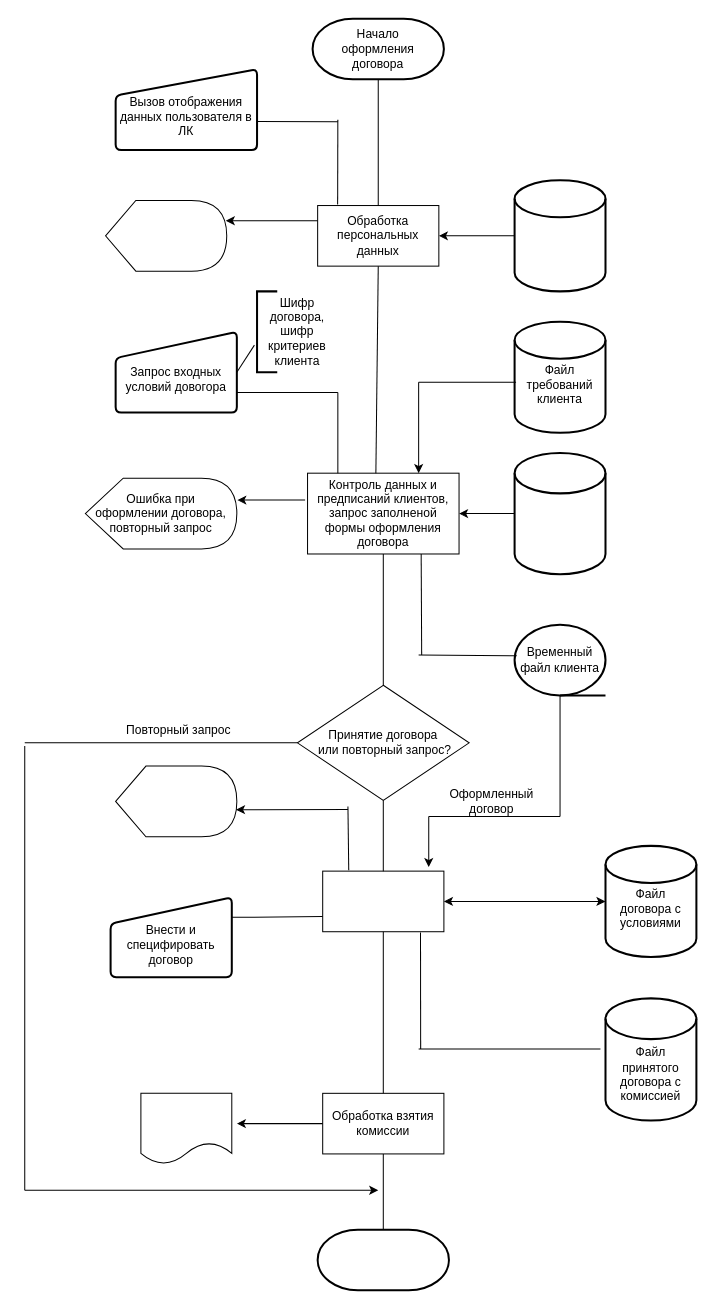
Some shapes in this 715 by 1308 pixel diagram are drawn without their labels. Each missing label, with the centre of its shape:
"Конец работы по обработке договора" goes at [382,1259].
"Обработка внесения договора в БД" goes at [383,901].
"Отображение страницы оформления" goes at [166,235].
"Персональные данные" goes at [559,235].
"Проверить актуальность договора" goes at [176,801].
"Счета с комиссиями" goes at [186,1128].
"Файл условий, включенных в договор" goes at [559,513].
